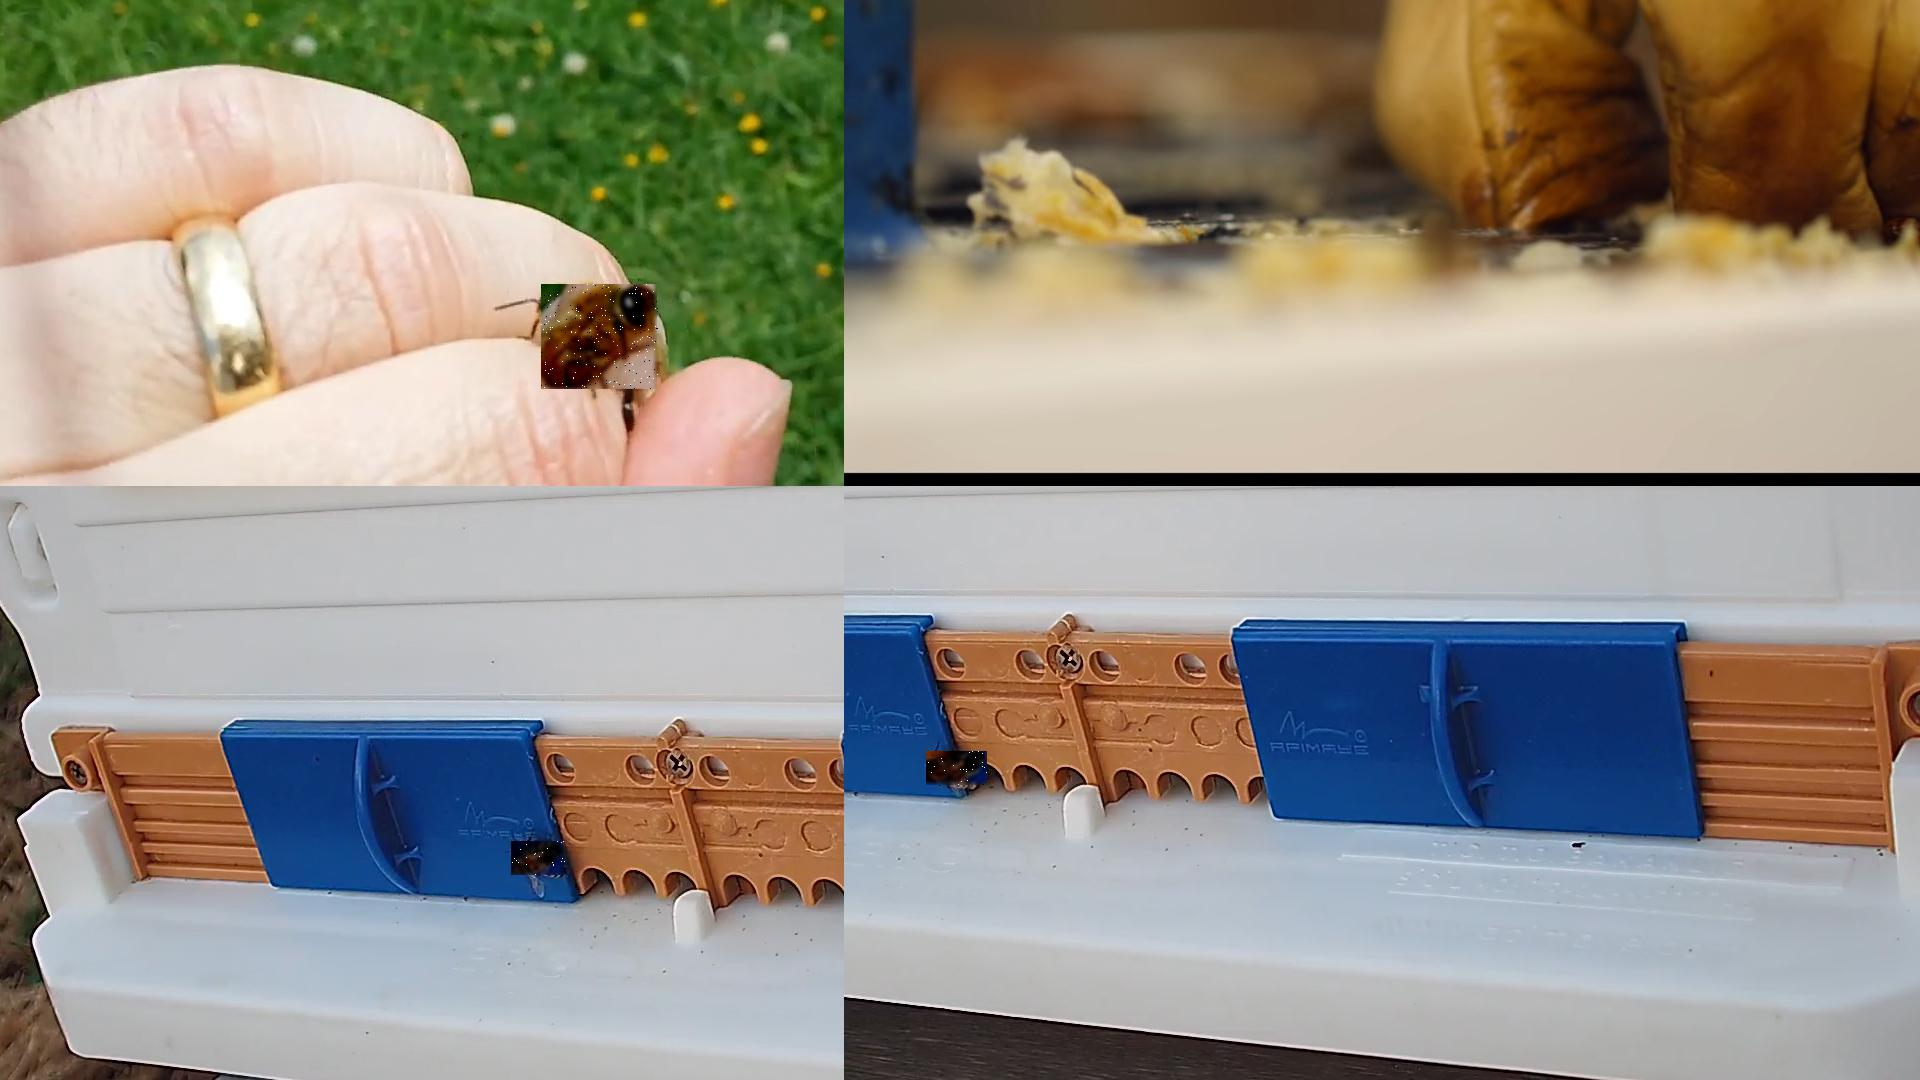bee: (926, 752, 988, 789), (512, 841, 567, 876)
drone: (542, 284, 659, 390)
